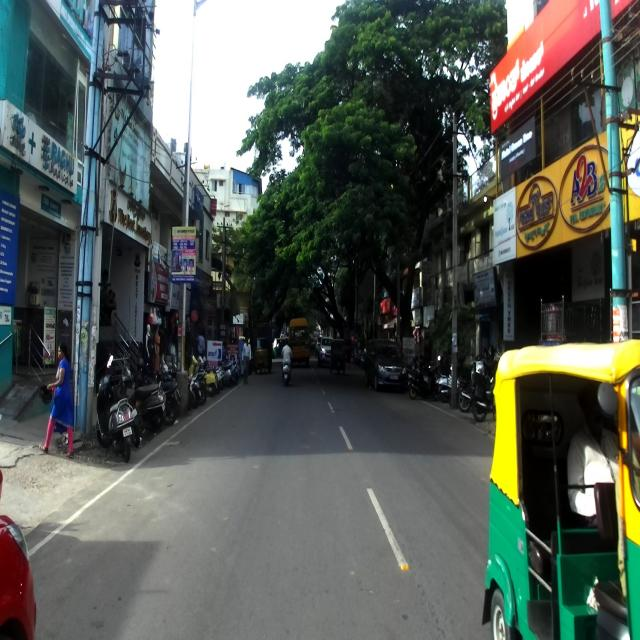autorickshaw: (481, 336, 639, 640)
motorcycle_Honda: (135, 356, 180, 424)
scooter: (96, 355, 134, 465), (116, 359, 166, 432)
